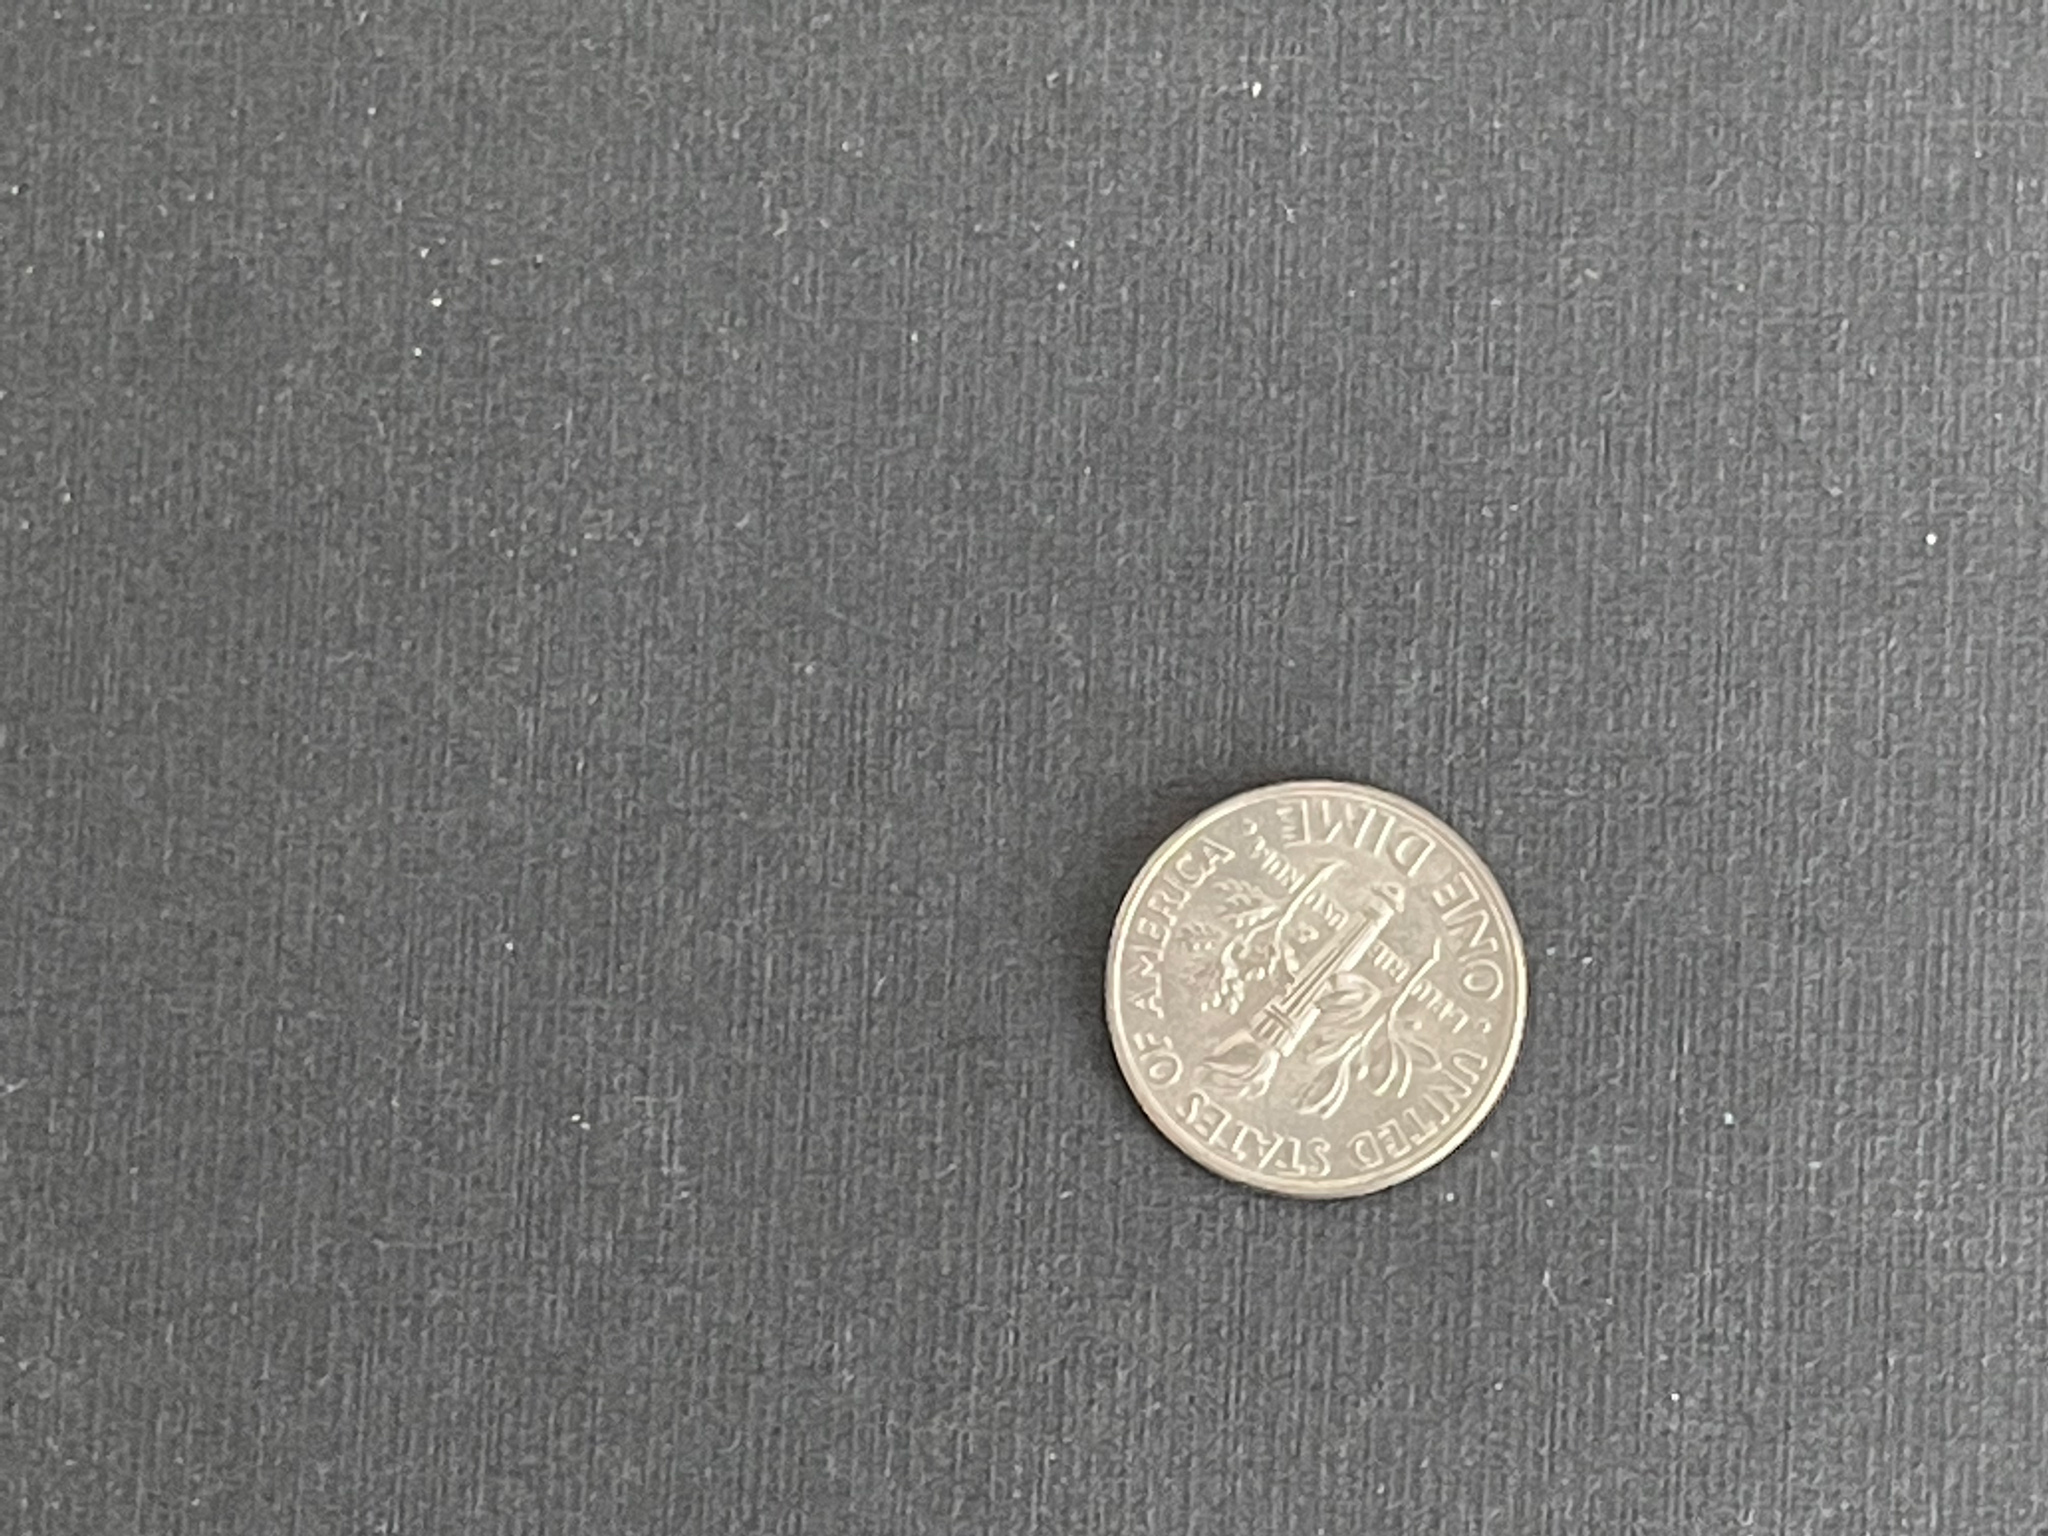dime: (1098, 774, 1534, 1204)
